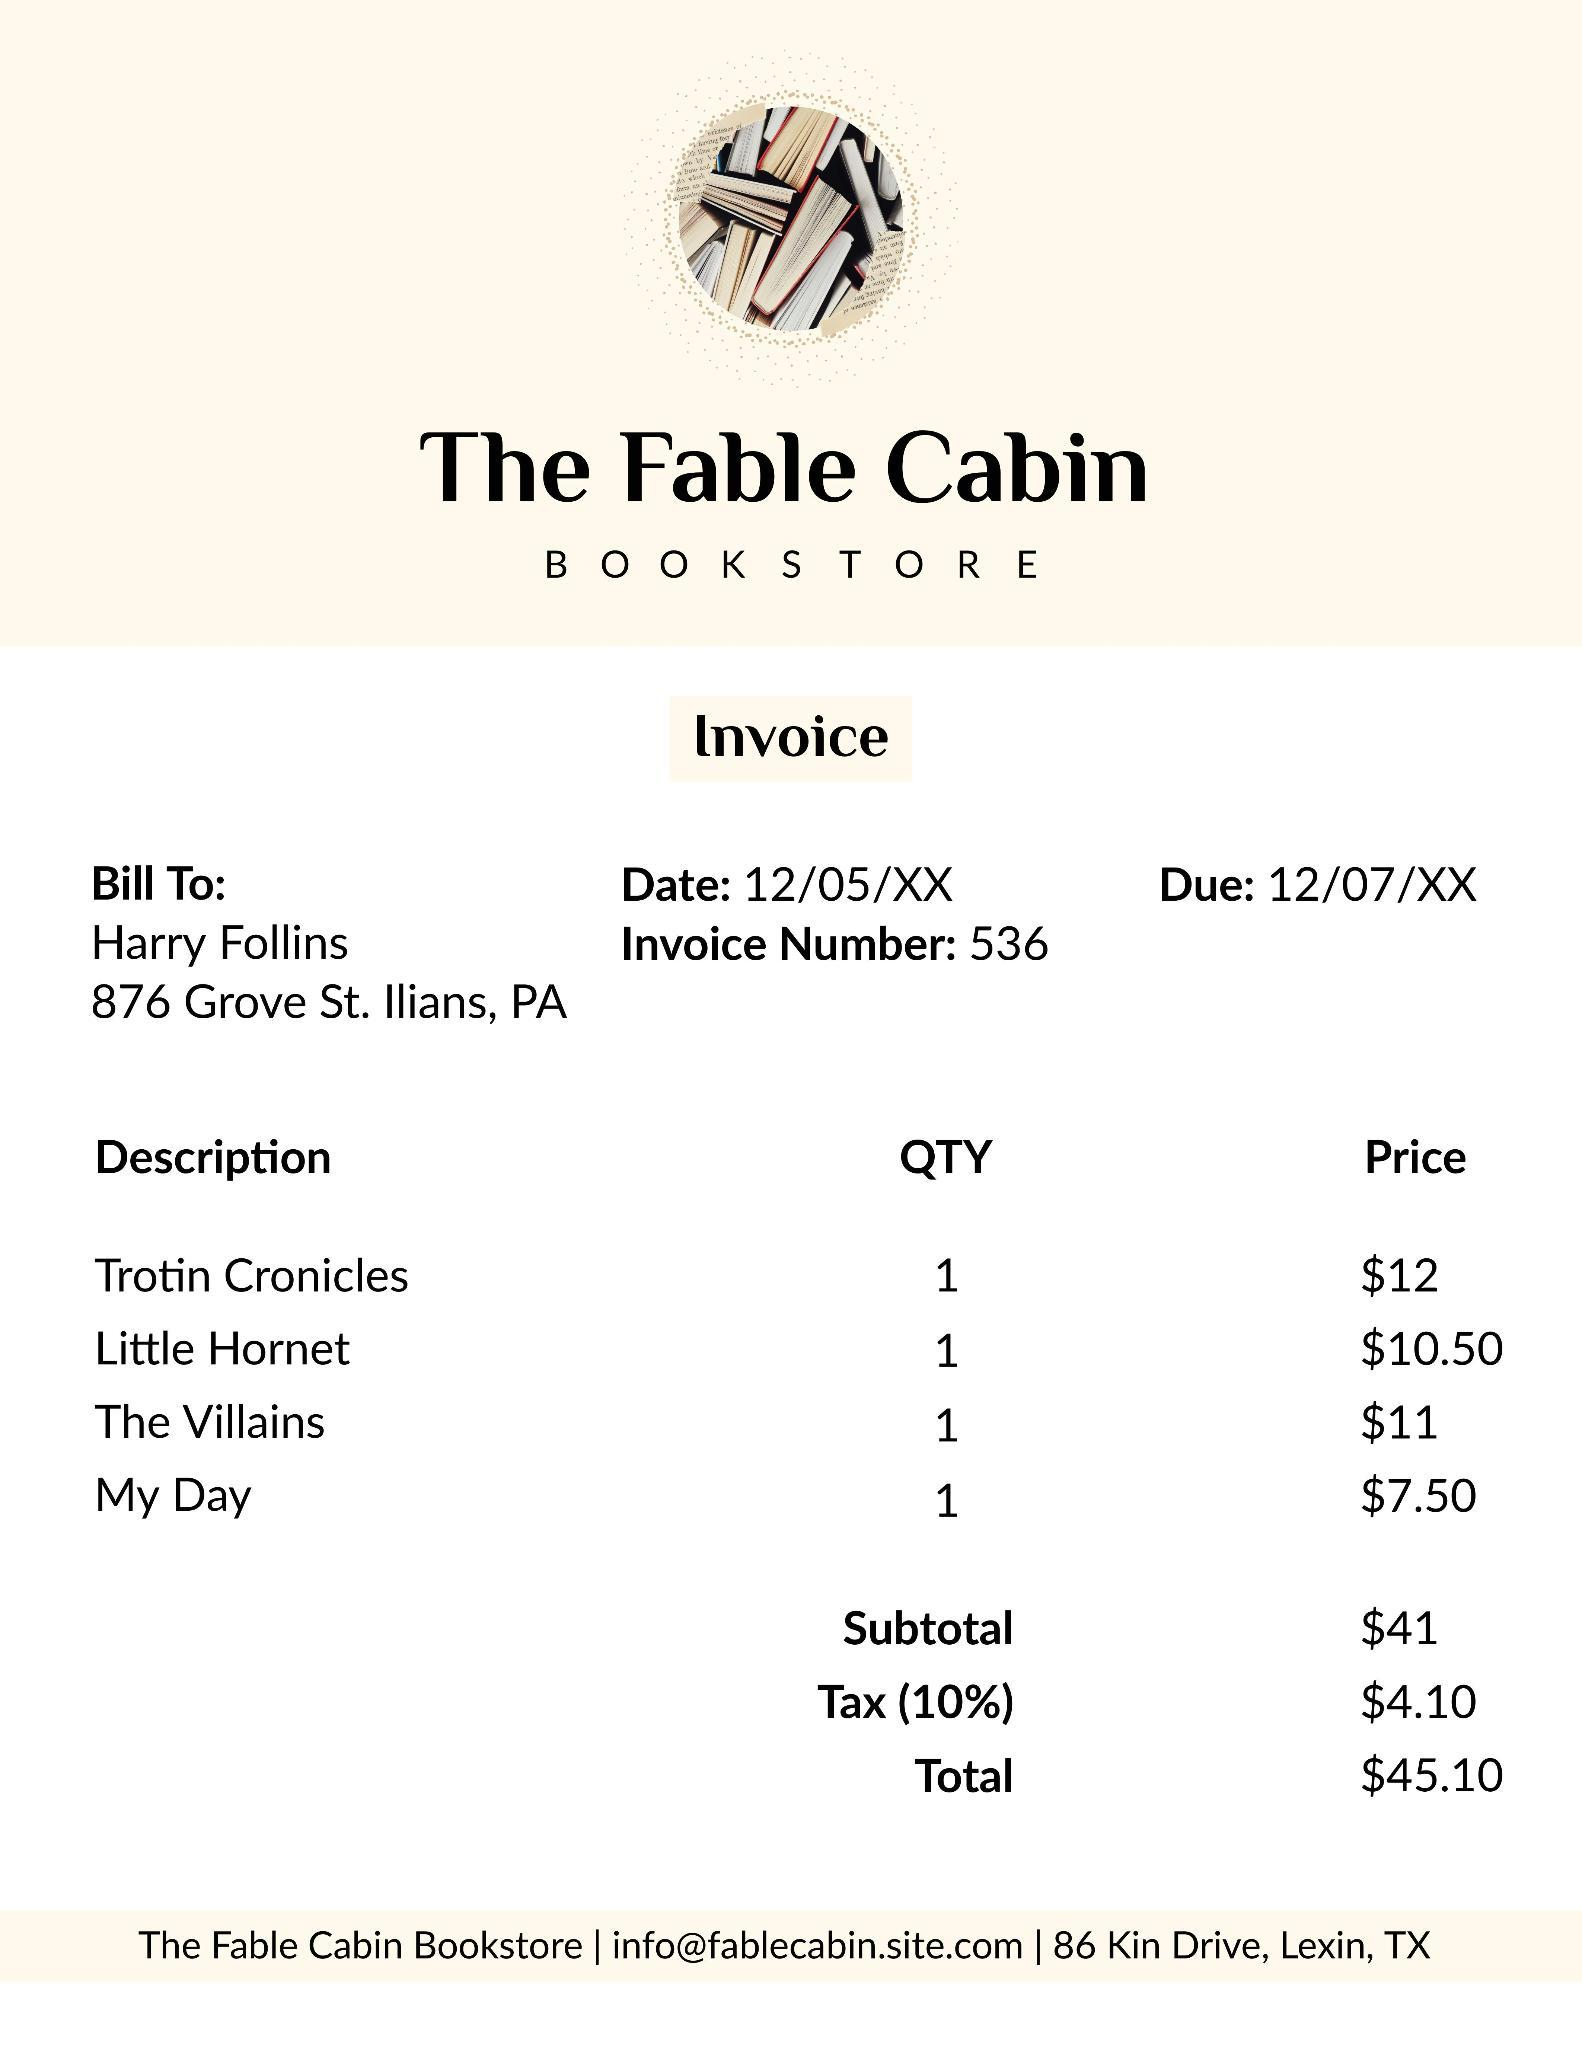ROI: (32, 1097, 1539, 1578), (784, 1607, 1540, 1836), (352, 419, 1221, 615), (557, 76, 1034, 371), (65, 839, 575, 1062), (73, 1912, 1494, 1992), (1127, 832, 1516, 925), (602, 839, 990, 916), (608, 925, 1072, 984), (656, 685, 921, 778)
